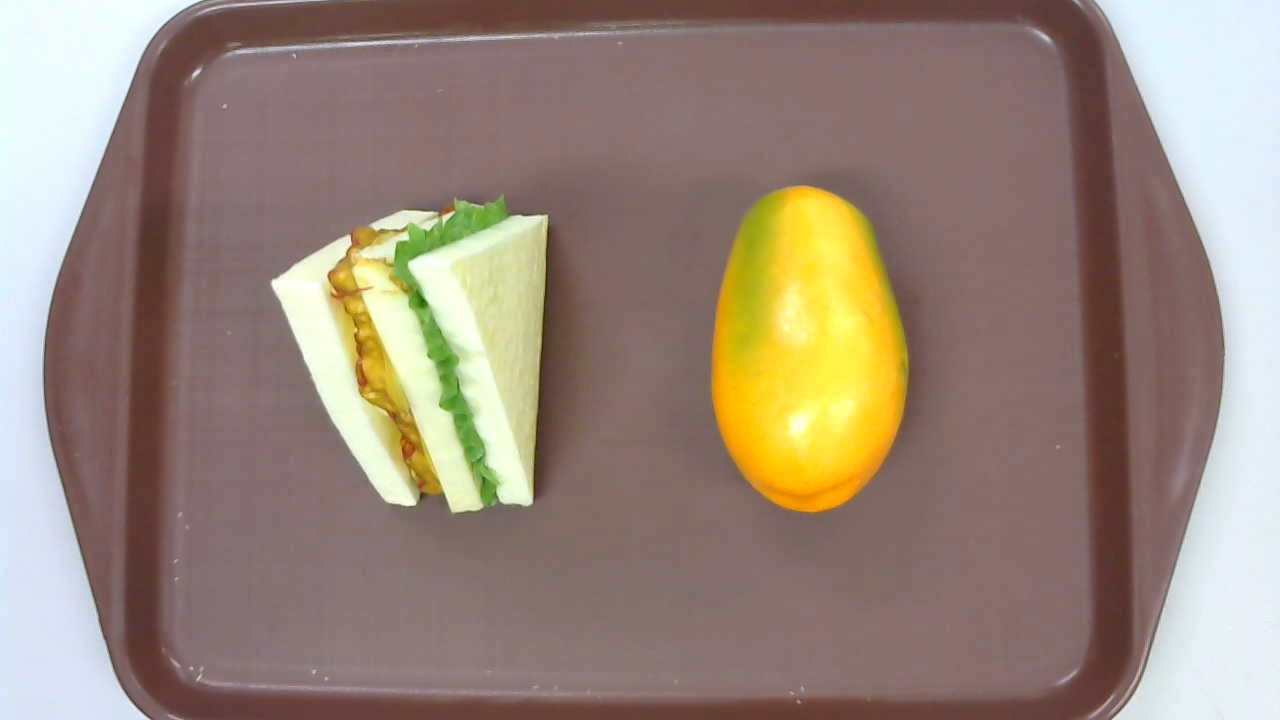papya: (711, 185, 908, 514)
sandwich: (271, 193, 548, 515)
